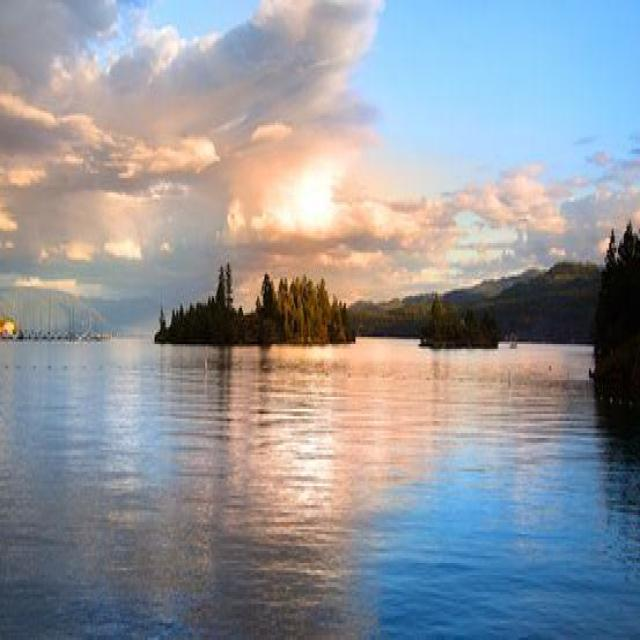other: (265, 180, 350, 236)
